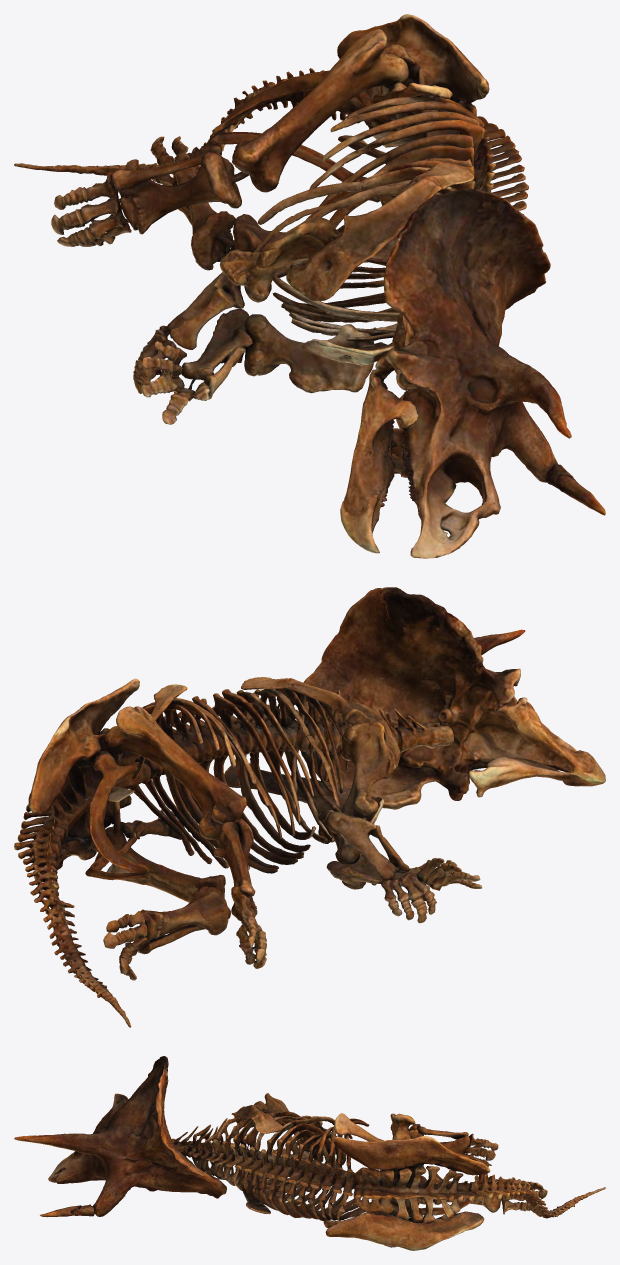
The picture shows the model from 3 angles, top to bottom: view 1: azimuth 30°, elevation 25°; view 2: azimuth 150°, elevation 25°; view 3: azimuth 270°, elevation 25°; orthographic projection. The views are drawn at different scales.
Visible parts, largest first — view 1: orientacao; view 2: orientacao; view 3: orientacao.
Boxes of the visible parts, x1,y1,x2,y2 form: orientacao: (14, 14, 605, 558); orientacao: (14, 587, 605, 1027); orientacao: (14, 1056, 605, 1250).
Size of the model in its own units: 39006 by 23089 by 81917.
Materials: 1 (1 with a texture image).
